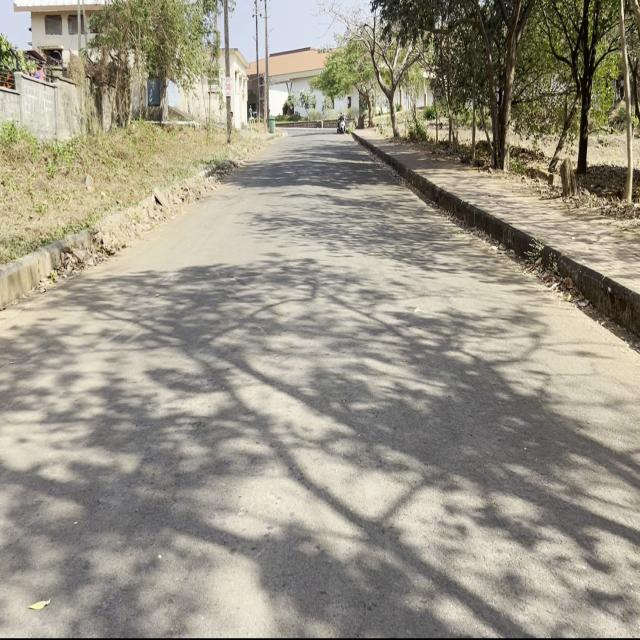Road: (3, 128, 635, 634)
